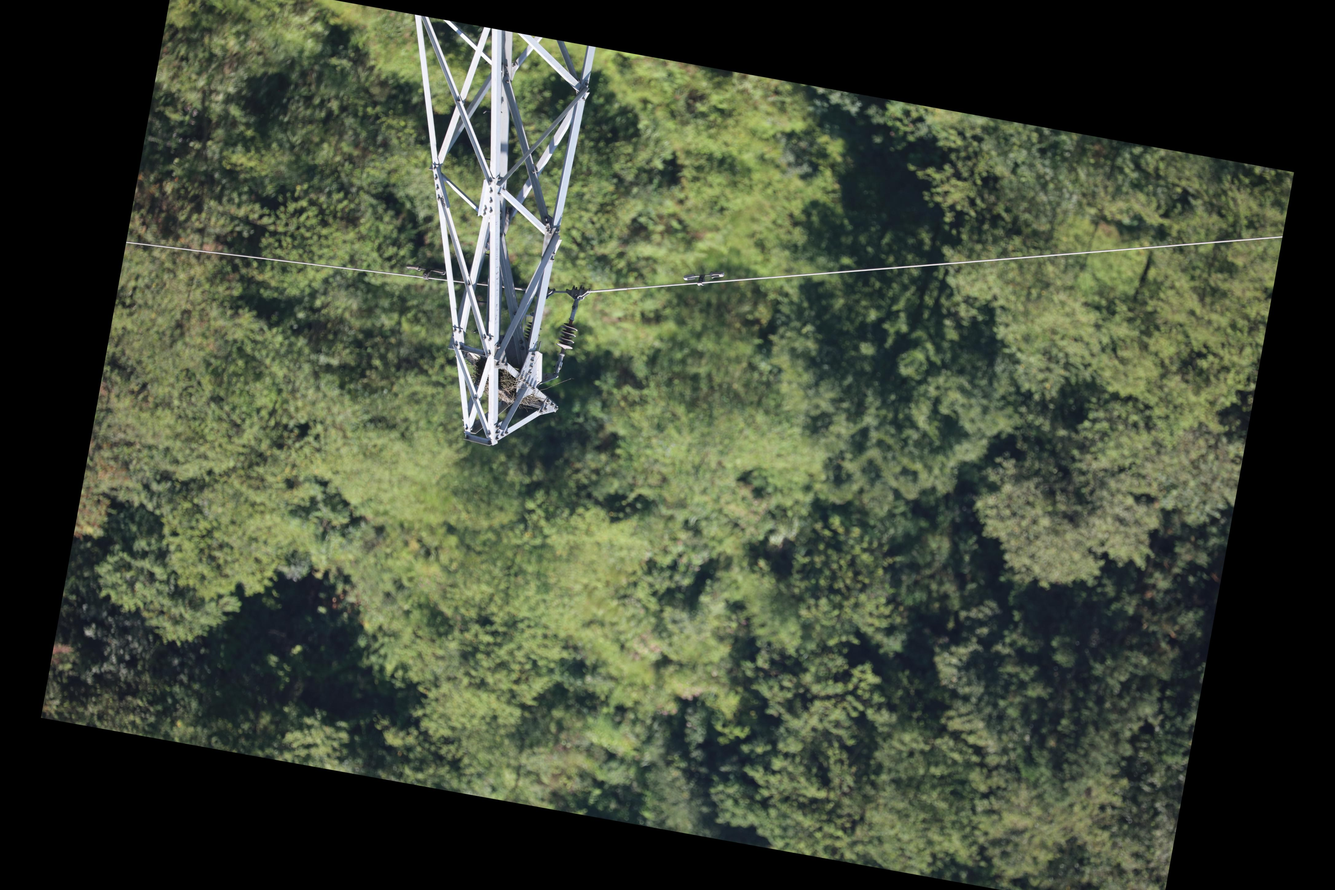damper: (680, 263, 727, 293), (402, 260, 448, 285)
